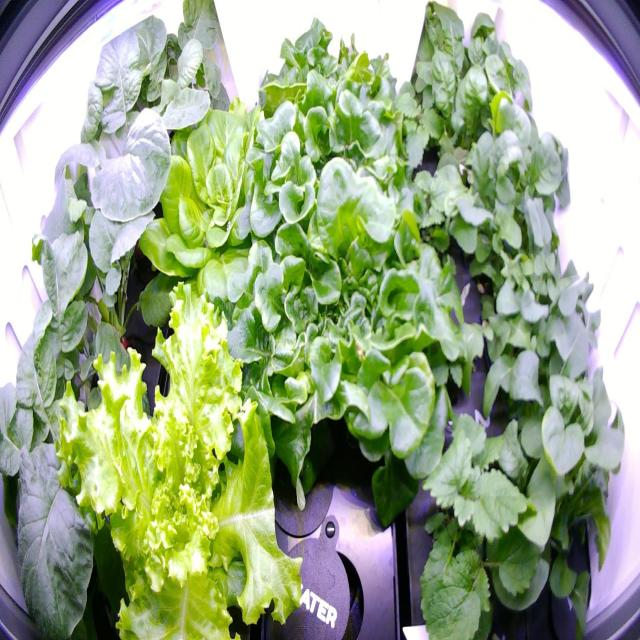Ready: (132, 82, 310, 368)
